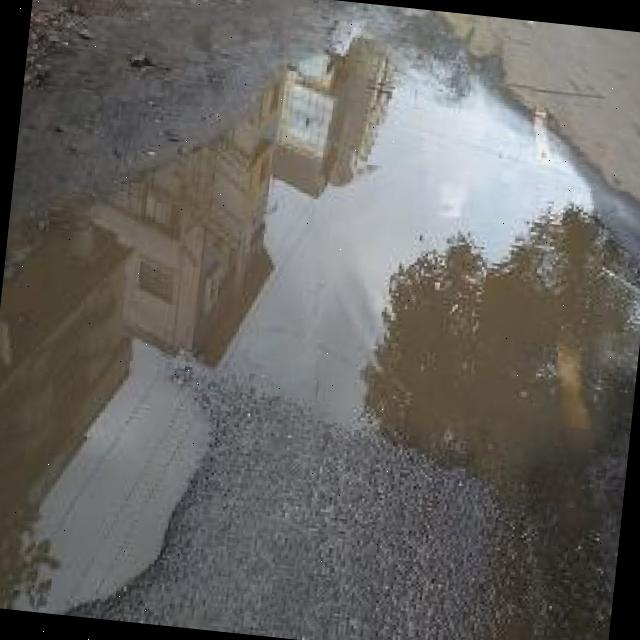stagnation: (0, 15, 640, 640)
